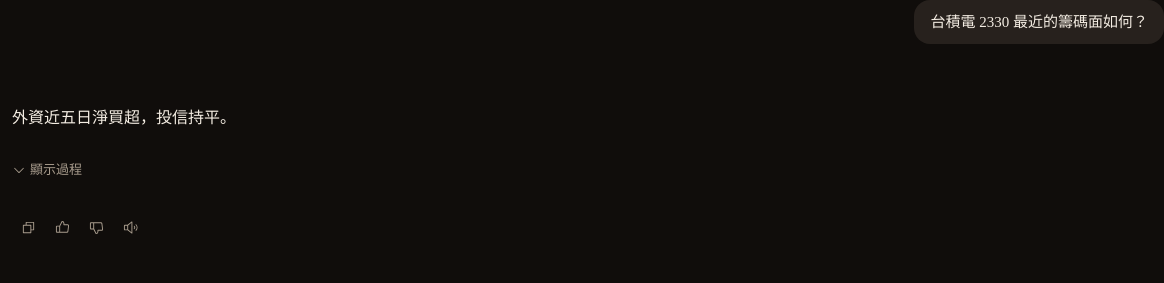
Test: PersistedThreadView › keeps the tool process collapsed until asked, then shows it
Click the button "顯示過程": (47, 170) 12,148 -> 82,192
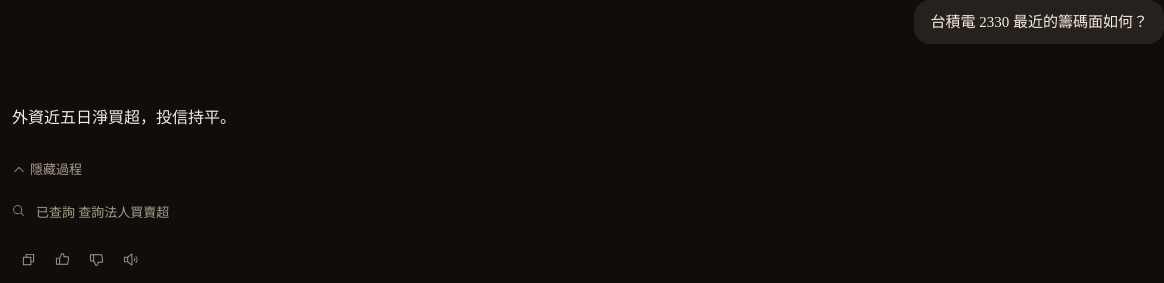
Check: the button "隱藏過程" is shown, box 12,148 -> 82,192
